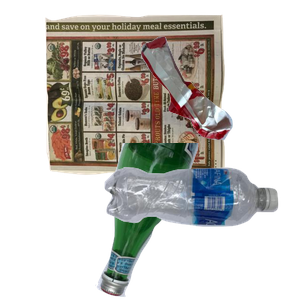glass: (93, 143, 284, 300)
paper: (42, 12, 260, 185)
plastic: (102, 165, 300, 300)
trash: (139, 34, 300, 167)
